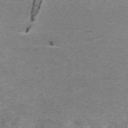finishing roll printing: (26, 0, 43, 32), (49, 41, 54, 46)
